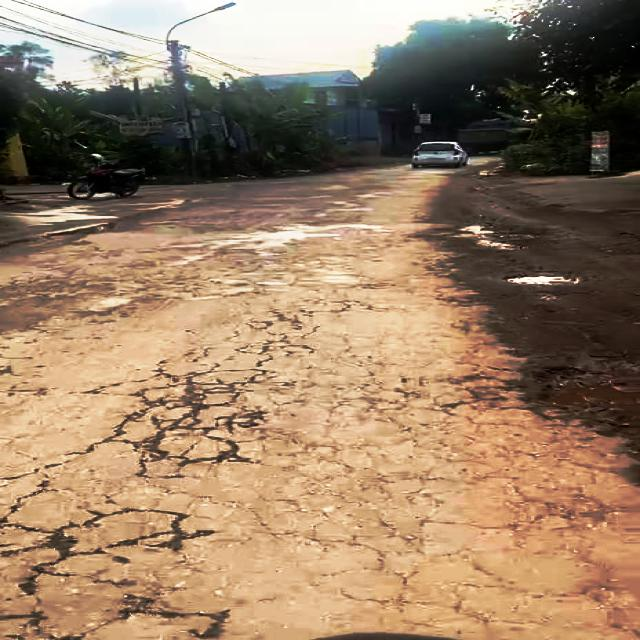pothole: (0, 505, 221, 590), (104, 377, 288, 464), (521, 360, 640, 458), (459, 222, 545, 250), (43, 222, 119, 239), (502, 272, 581, 286)
